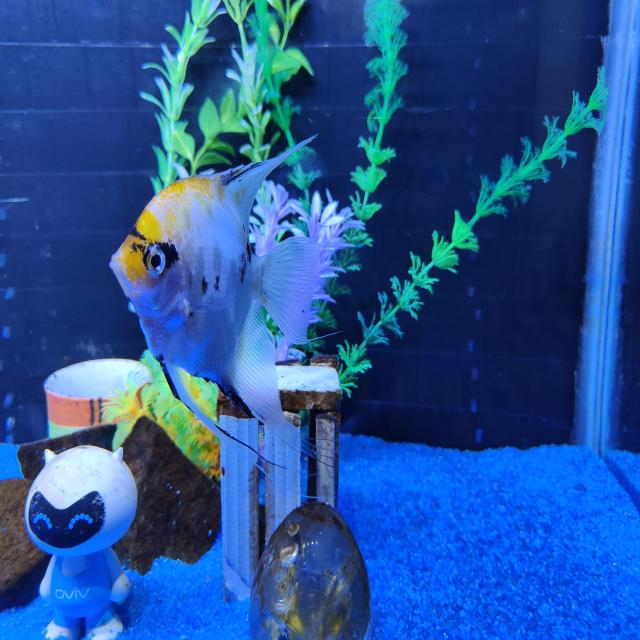Fish: (110, 137, 318, 451)
